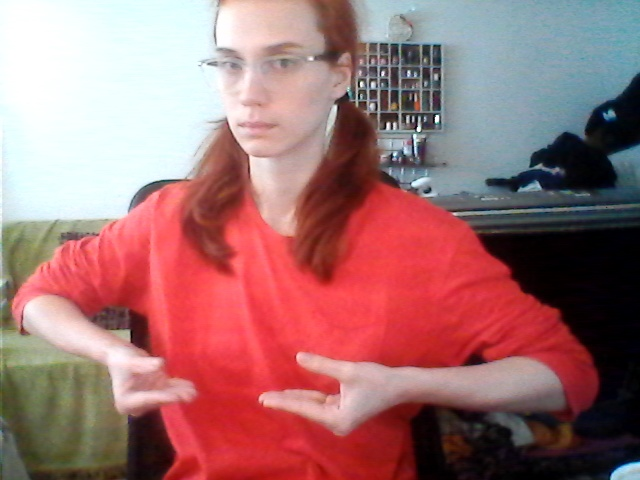drzat: (98, 333, 412, 441)
